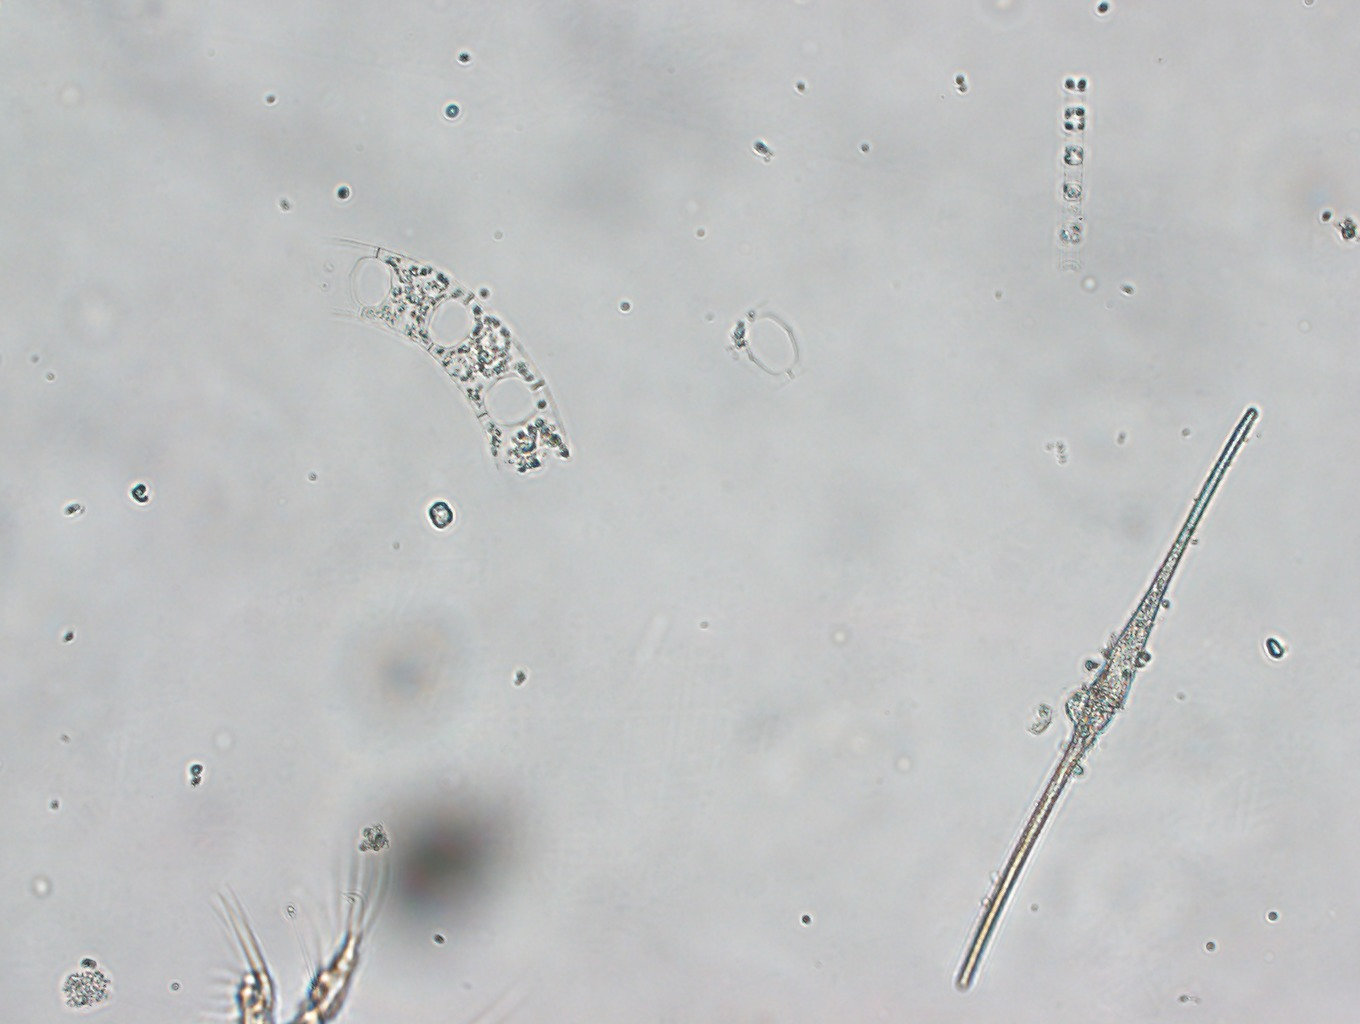ceratium fusus: (959, 403, 1266, 1007)
eucampia: (334, 238, 596, 473)
skeletonema: (1039, 56, 1092, 285)
